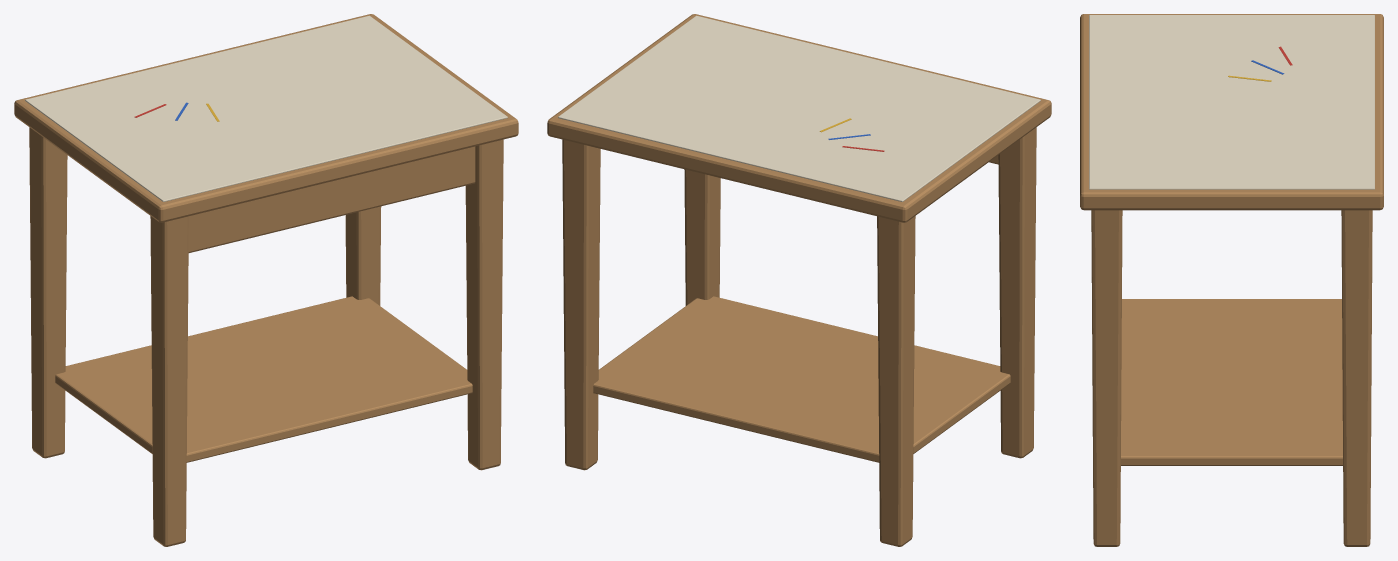
File: BanHoc_Nhim.glb
3 renders of one model, left to right at view 1: azimuth 30°, elevation 25°; view 2: azimuth 150°, elevation 25°; view 3: azimuth 270°, elevation 25°, orthographic. The views are drawn at different scales.
Parts seen in each view (by area): view 1: geometry_0; view 2: geometry_0; view 3: geometry_0.
Part boxes in pixels (box(x1,y1,x2,y2)): geometry_0: box(14, 14, 518, 546); geometry_0: box(547, 14, 1051, 546); geometry_0: box(1080, 14, 1383, 546).
Bounding box in the file's own units: 0.48 × 0.4474 × 0.34.
